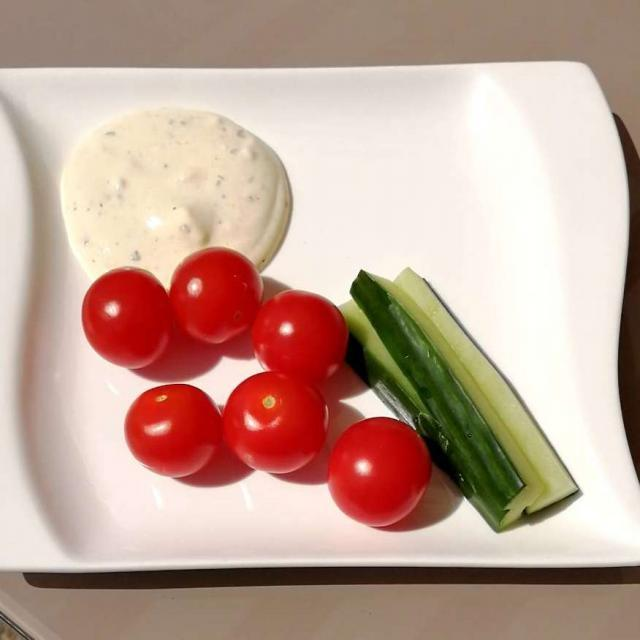cucumber: (345, 262, 588, 523)
dips: (65, 107, 287, 269)
tomato: (76, 253, 450, 519)
